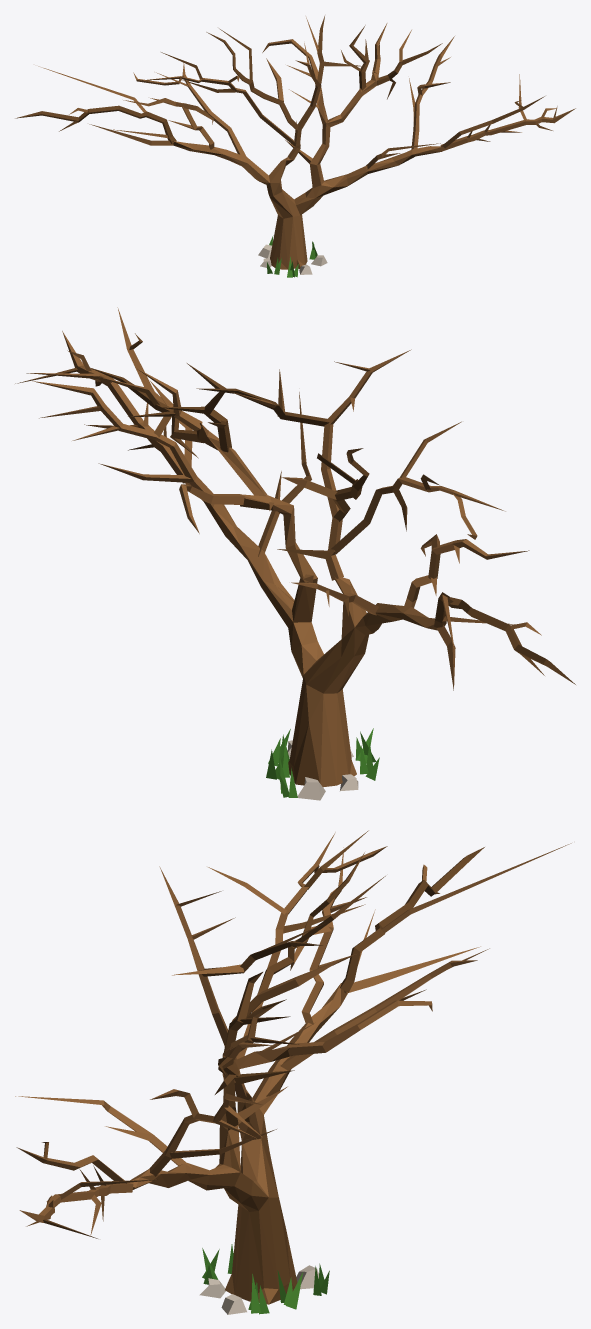
The model's file is jacaranda_4_bare.glb.
The picture shows the model from 3 angles, top to bottom: view 1: azimuth 30°, elevation 25°; view 2: azimuth 150°, elevation 25°; view 3: azimuth 270°, elevation 25°; orthographic projection. The views are drawn at different scales.
Visible parts, largest first — view 1: jacaranda_4_bare; view 2: jacaranda_4_bare; view 3: jacaranda_4_bare.
Part boxes in pixels (<box>): jacaranda_4_bare: <box>15,16,575,277</box>; jacaranda_4_bare: <box>15,307,575,800</box>; jacaranda_4_bare: <box>15,830,571,1314</box>.
Bounding box in the file's own units: 10.75 × 5.46 × 6.86.
